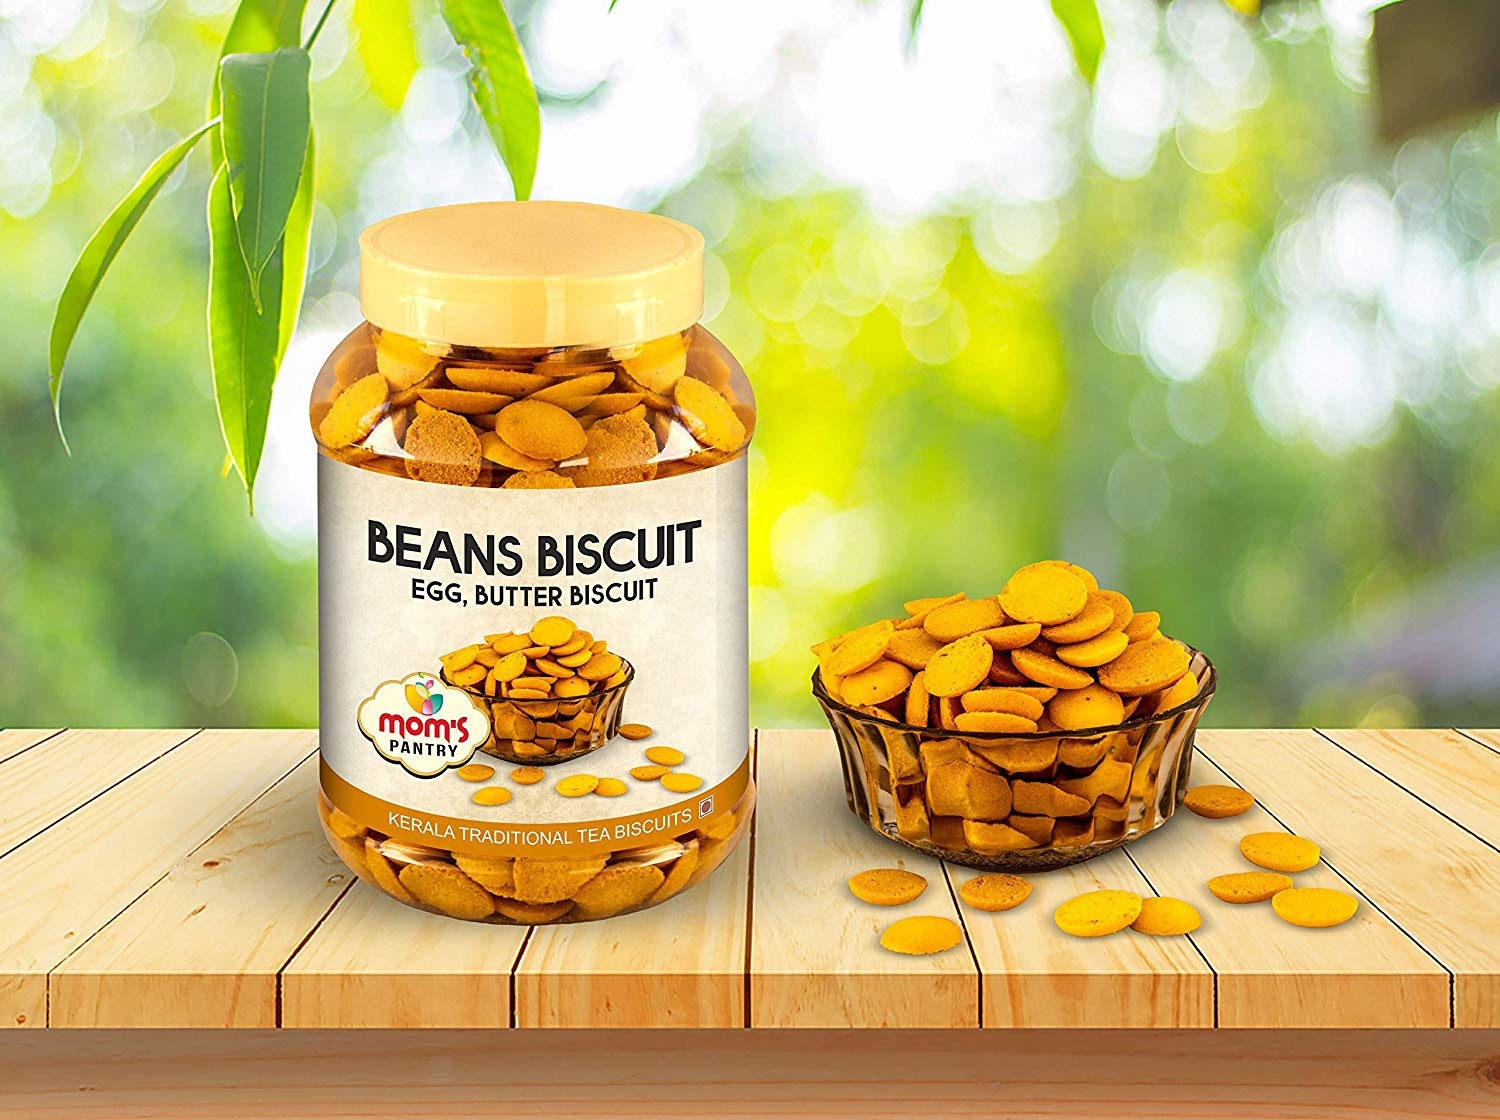nonveg_red: (696, 794, 716, 818)
